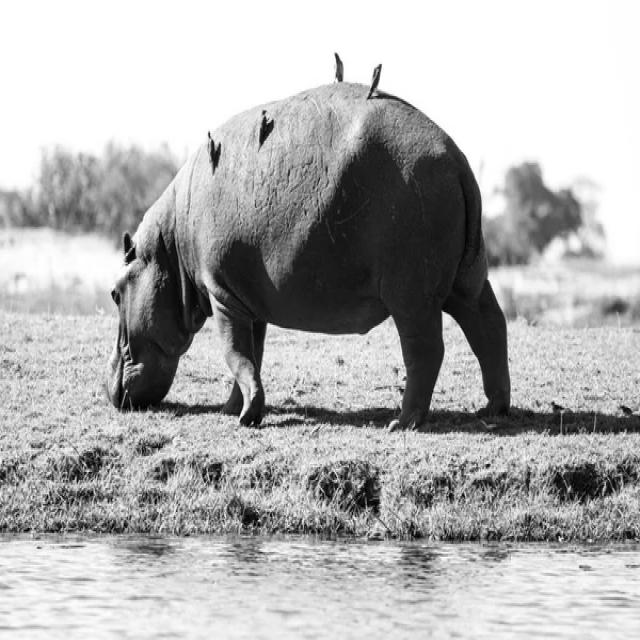Animal: (104, 67, 511, 431)
